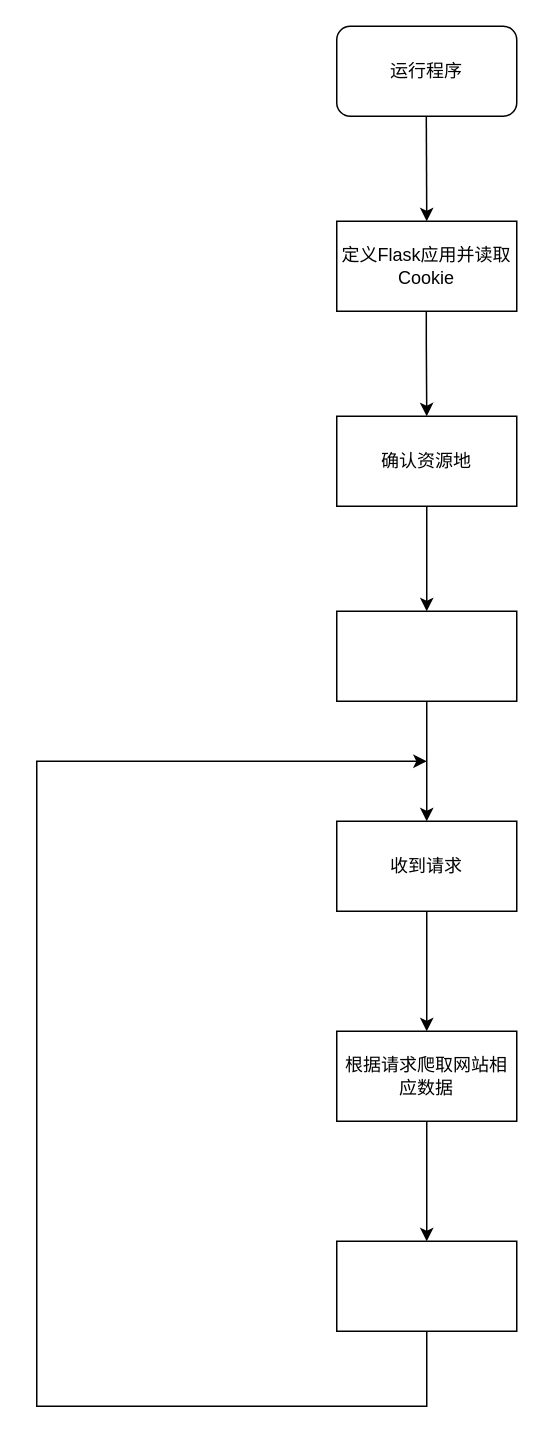
Some shapes in this 543 by 1445 pixel diagram are drawn without their labels. Each missing label, with the centre of its shape:
"运行Flask服务" goes at pixel 426 655.
"返回所需要的数据" goes at pixel 426 1285.
